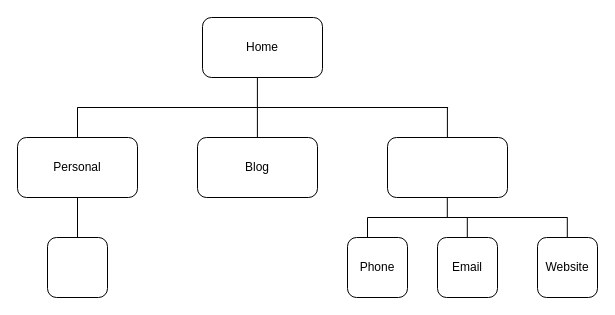
Image size: 615x315. Some labels were removed from this diagram. Here are the shapes that lost their labels. From the top down, the centre of each, then its label:
At point 447,167: "Contact".
At point 77,267: "Resume".
